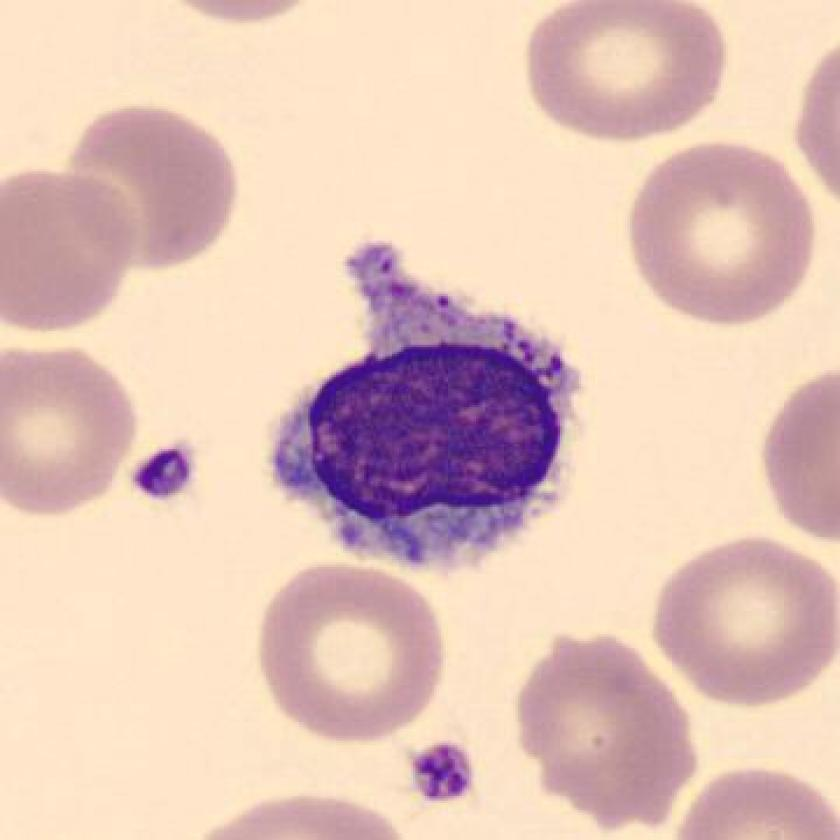lymphocyte: (248, 224, 608, 594)
